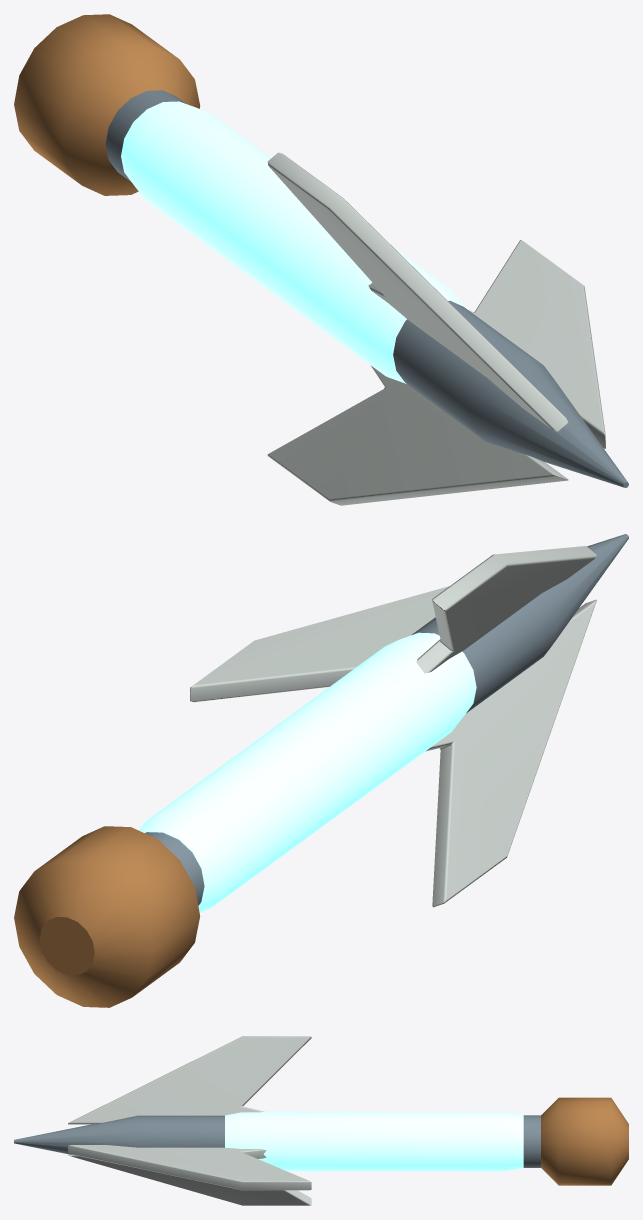
Rendered from zb_harpoon.glb.
3 renders of one model, top to bottom at view 1: azimuth 30°, elevation 25°; view 2: azimuth 150°, elevation 25°; view 3: azimuth 270°, elevation 25°, orthographic. The views are drawn at different scales.
Parts seen in each view (by area): view 1: zb_harpoon / Ivory ceramic, zb_harpoon / Ion exhaust, zb_harpoon / Copper driving band, zb_harpoon / Machined titanium; view 2: zb_harpoon / Ivory ceramic, zb_harpoon / Ion exhaust, zb_harpoon / Copper driving band, zb_harpoon / Machined titanium; view 3: zb_harpoon / Ivory ceramic, zb_harpoon / Ion exhaust, zb_harpoon / Copper driving band, zb_harpoon / Machined titanium.
Part boxes in pixels (<box>): zb_harpoon / Ivory ceramic: <box>267,152,605,505</box>; zb_harpoon / Ion exhaust: <box>121,101,464,383</box>; zb_harpoon / Copper driving band: <box>14,14,200,195</box>; zb_harpoon / Machined titanium: <box>105,90,628,487</box>; zb_harpoon / Ivory ceramic: <box>190,546,596,907</box>; zb_harpoon / Ion exhaust: <box>139,632,476,912</box>; zb_harpoon / Copper driving band: <box>14,826,200,1007</box>; zb_harpoon / Machined titanium: <box>145,534,628,905</box>; zb_harpoon / Ivory ceramic: <box>68,1036,311,1205</box>; zb_harpoon / Ion exhaust: <box>225,1111,523,1171</box>; zb_harpoon / Copper driving band: <box>541,1097,628,1185</box>; zb_harpoon / Machined titanium: <box>14,1115,540,1167</box>.
Size of the model in its own units: 9.22 by 10.62 by 35.
